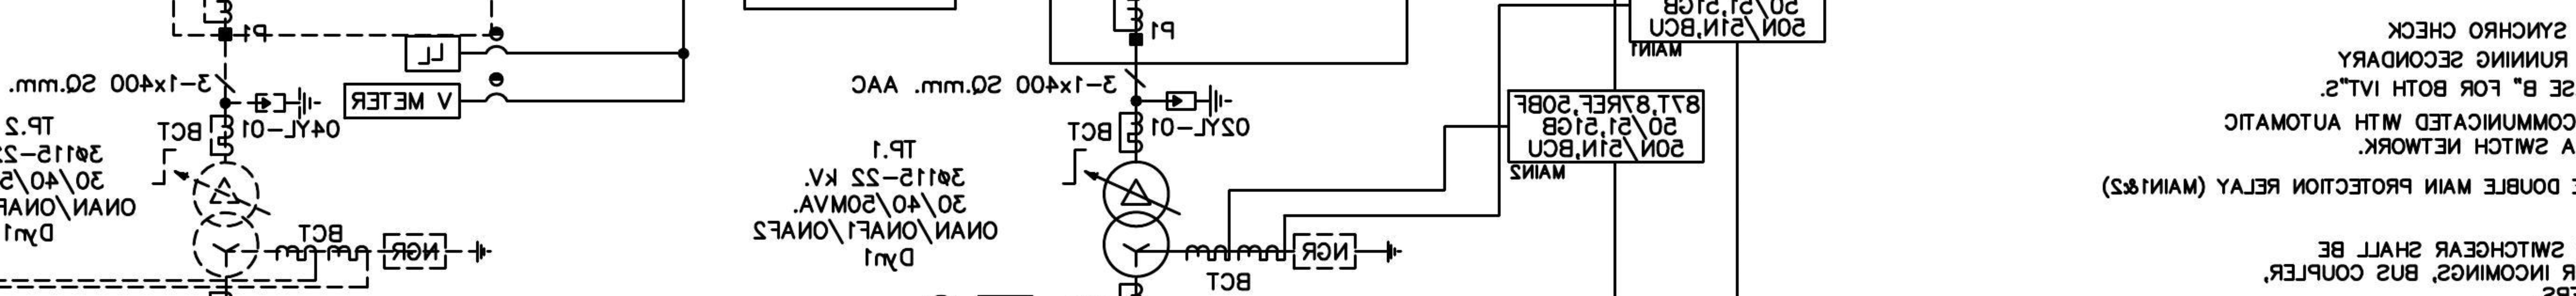11522_tx_dyn1: (1102, 160, 1171, 279)
115_la: (1165, 83, 1233, 118)
LL: (404, 34, 462, 73)
NGR_future: (1292, 232, 1403, 270)
v_m_digital: (343, 82, 462, 120)
